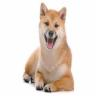dog: (22, 3, 74, 92)
